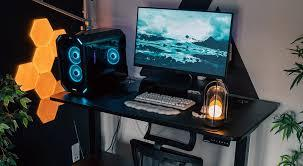keyboard: (133, 86, 199, 114)
monitor: (133, 2, 233, 83)
pc: (49, 22, 131, 98)
